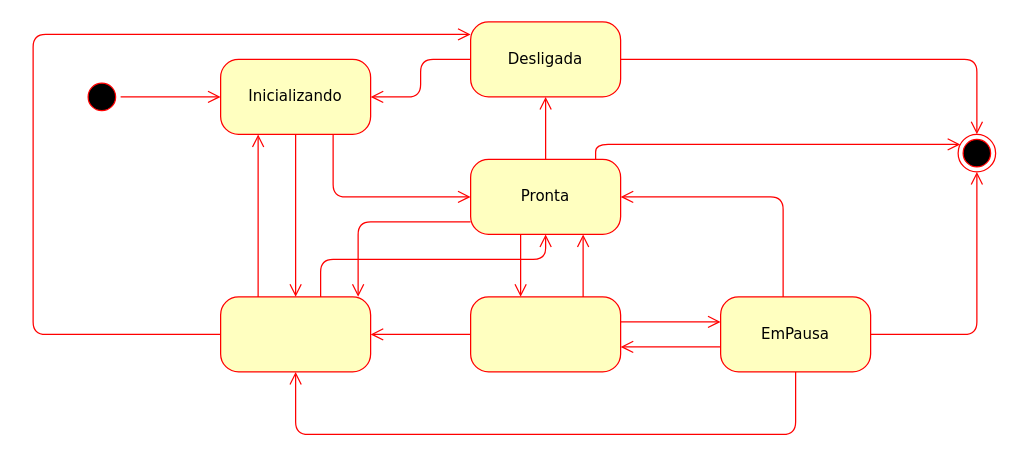
This 1018x469 diagram has some shape labels left out. The centre of each missing label's shape, as x and y in pixels:
ComErro: point (295, 334)
Imprimindo: point (545, 334)
